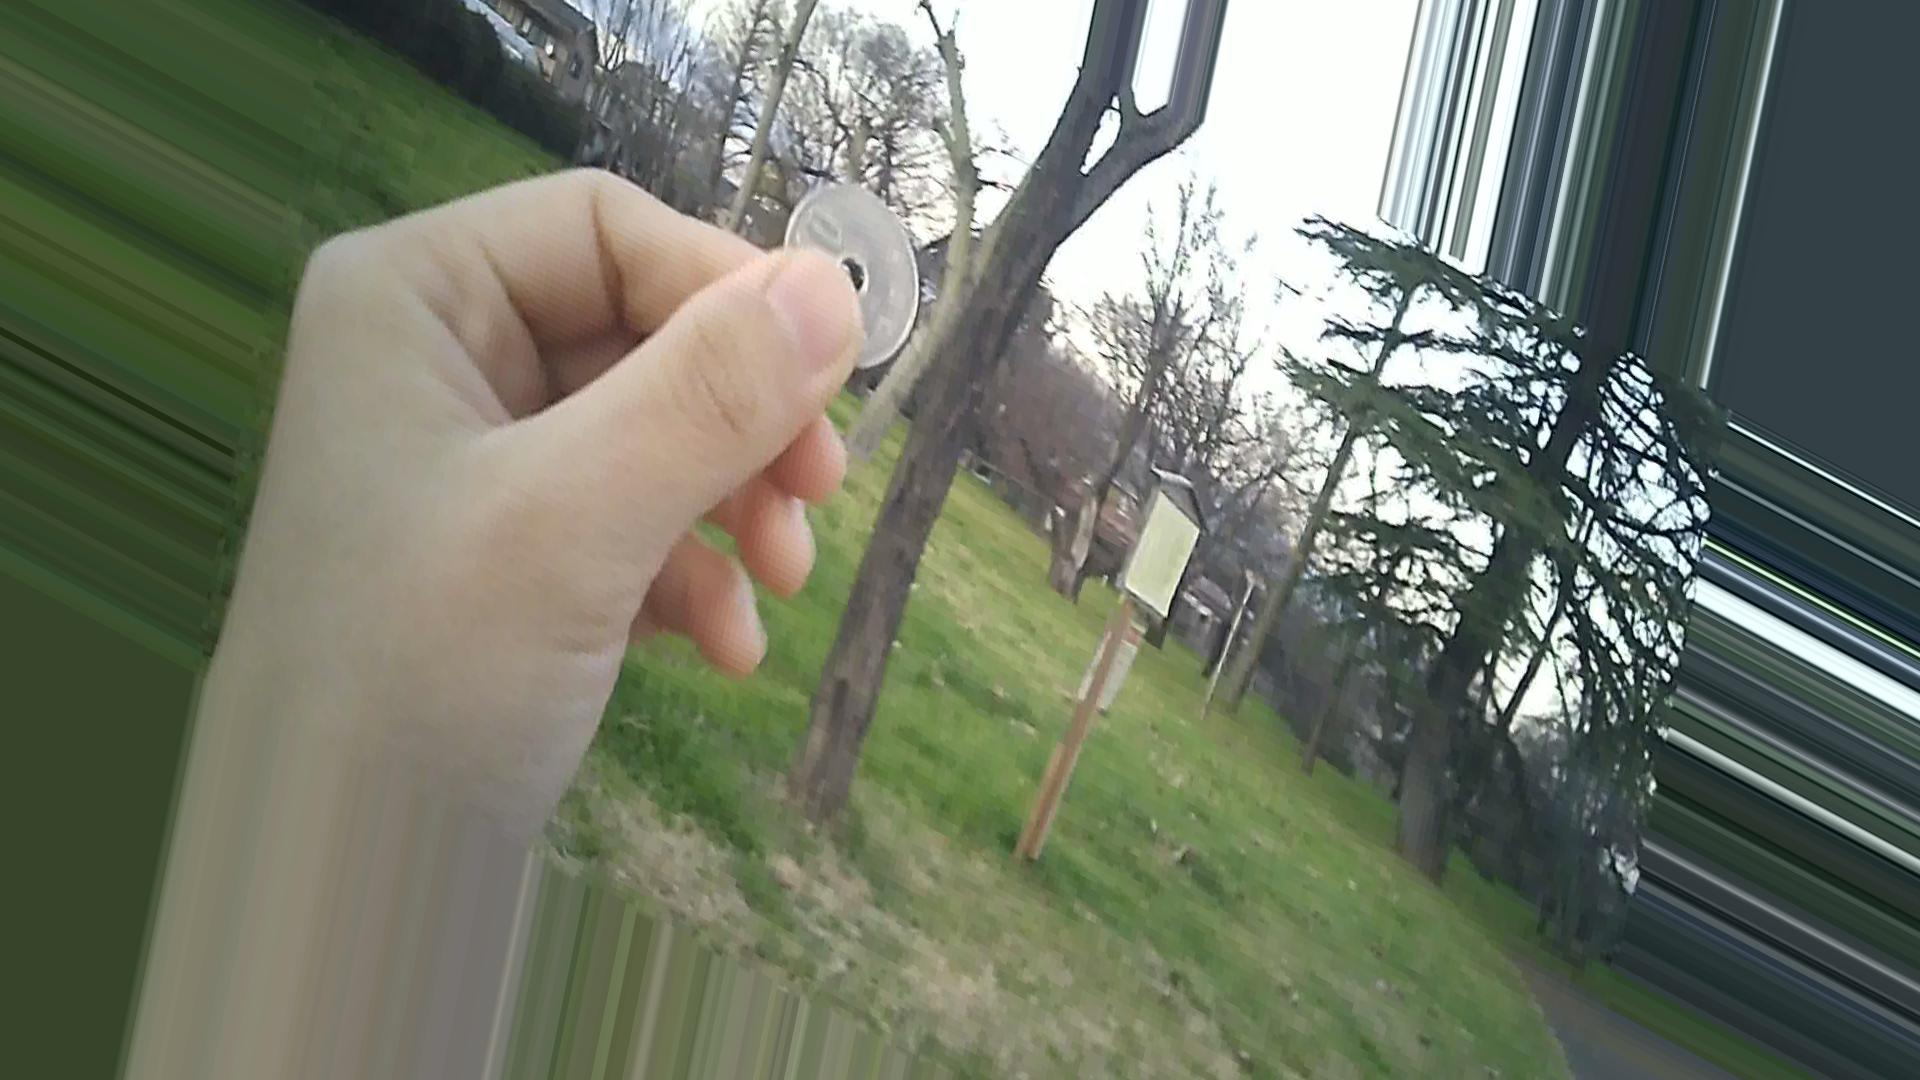50 Yen: (781, 178, 931, 386)
